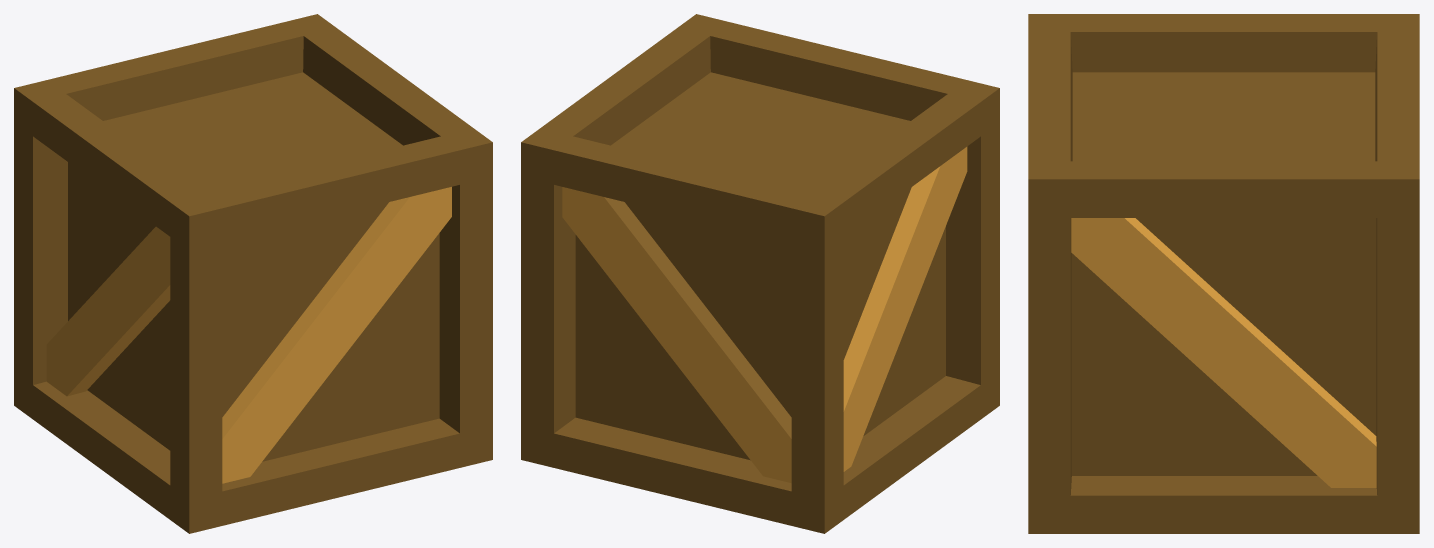
File: crate.fbx
3 views of the same model, side by side, from view 1: azimuth 30°, elevation 25°; view 2: azimuth 150°, elevation 25°; view 3: azimuth 270°, elevation 25° (orthographic). The views are drawn at different scales.
Visible parts, largest first — view 1: Cube; view 2: Cube; view 3: Cube.
Part boxes in pixels (x1,y1,x2,y2): Cube: (14, 14, 492, 533); Cube: (521, 14, 999, 533); Cube: (1028, 14, 1419, 533).
Bounding box in the file's own units: 200 × 200 × 200.
